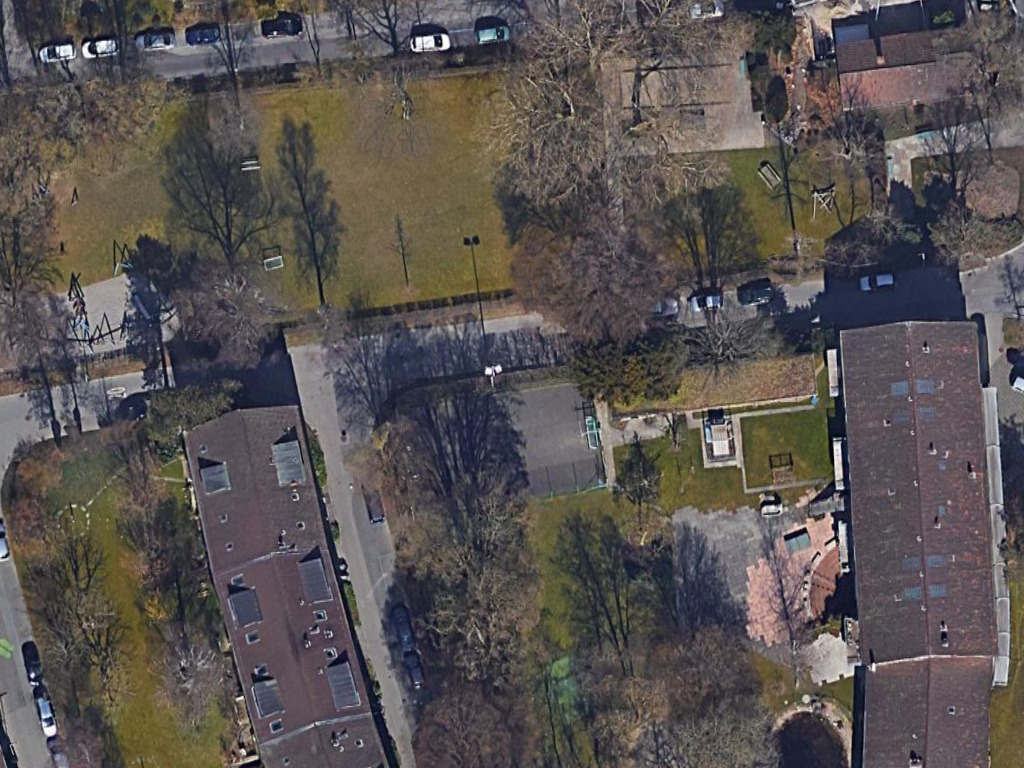car: (403, 29, 454, 58), (854, 268, 901, 295), (472, 20, 514, 48), (78, 35, 127, 59), (33, 40, 80, 64)
